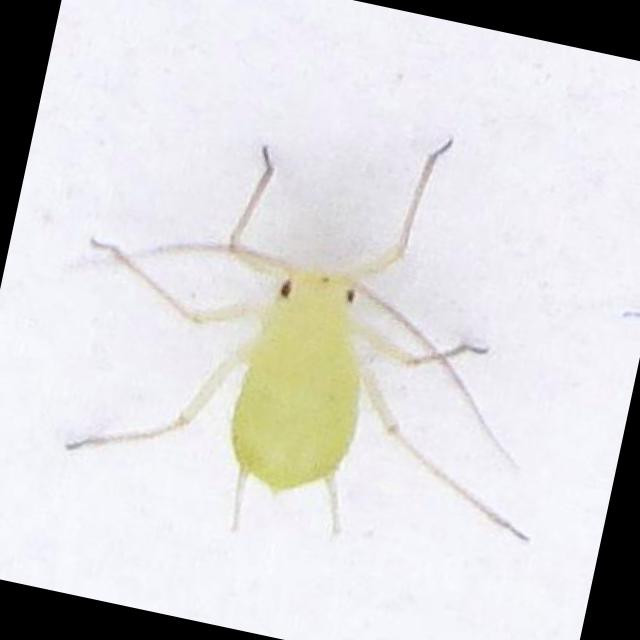Aphid: (41, 59, 599, 620)
